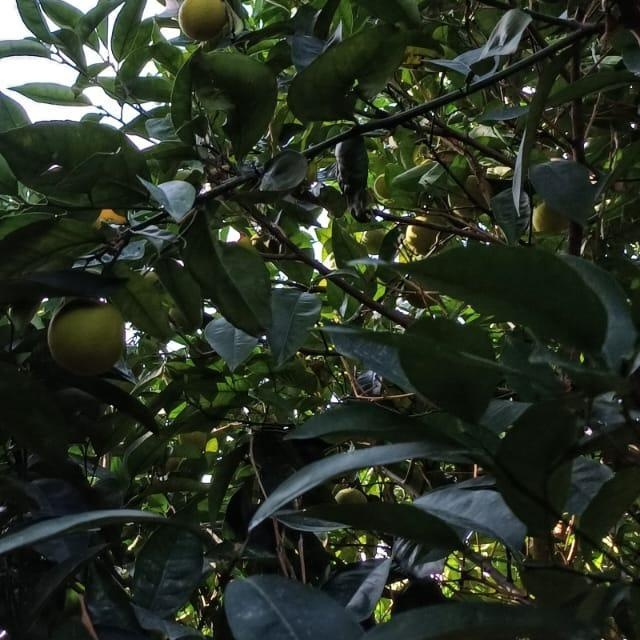orange: (43, 294, 131, 378), (178, 0, 232, 39), (92, 203, 132, 249), (402, 211, 444, 253), (532, 200, 570, 234), (360, 224, 392, 254), (530, 0, 580, 13)
